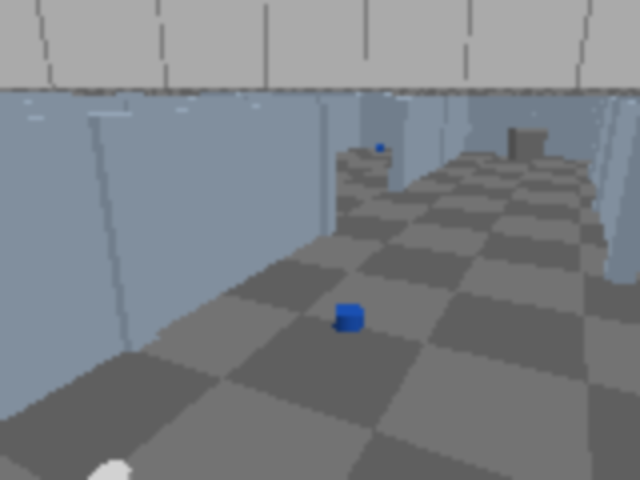obstacle: (506, 128, 547, 162)
puck: (335, 304, 363, 333), (90, 463, 131, 478)
